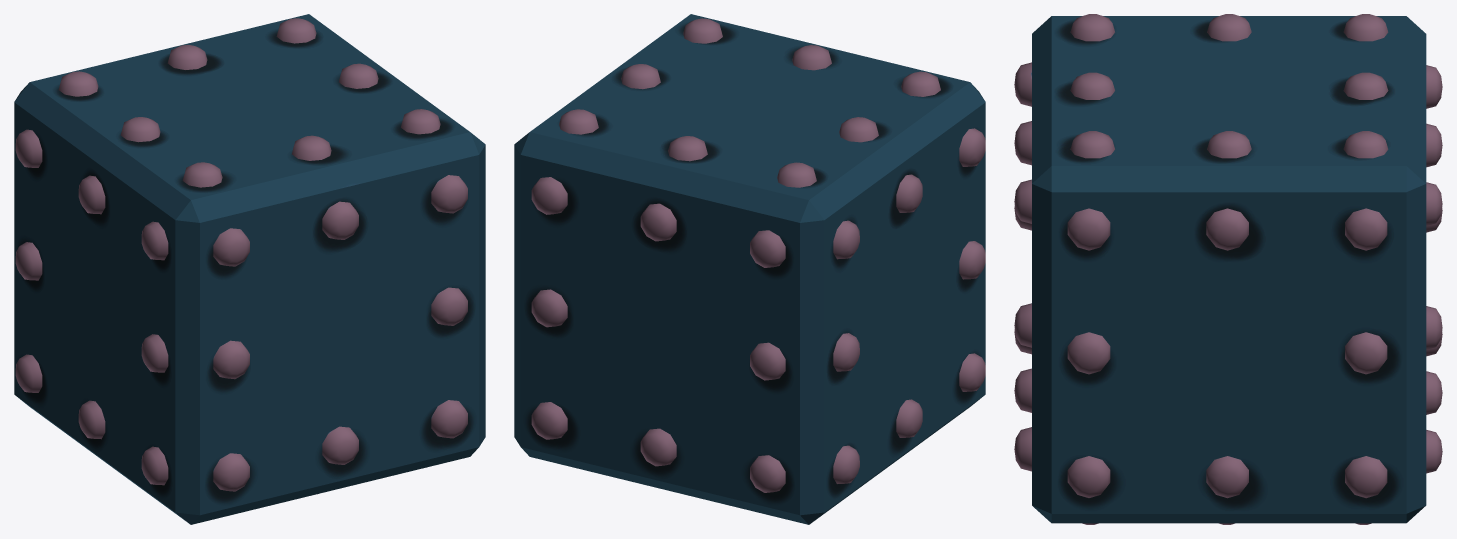
Rendered from blocks_indestructable.fbx.
3 renders of one model, left to right at view 1: azimuth 30°, elevation 25°; view 2: azimuth 150°, elevation 25°; view 3: azimuth 270°, elevation 25°, orthographic. The views are drawn at different scales.
Visible parts, largest first — view 1: block_indestructible, pins; view 2: block_indestructible, pins; view 3: block_indestructible, pins.
Part boxes in pixels (x1,y1,x2,y2): block_indestructible: (14, 14, 485, 524); pins: (15, 18, 467, 494); block_indestructible: (514, 14, 985, 524); pins: (531, 18, 985, 492); block_indestructible: (1032, 16, 1426, 523); pins: (1014, 14, 1442, 524).
Size of the model in its own units: 217 by 217 by 217.
